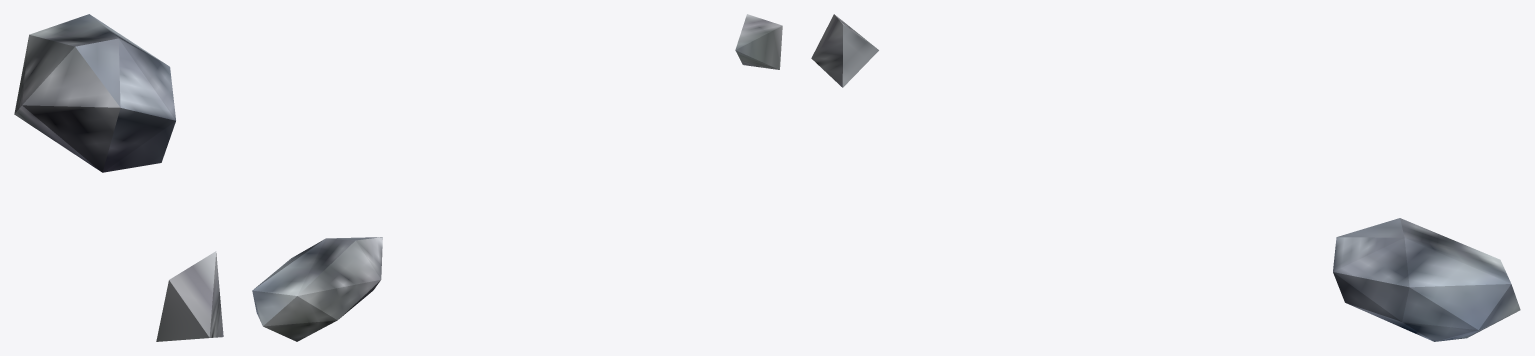
3 renders of one model, left to right at view 1: azimuth 30°, elevation 25°; view 2: azimuth 150°, elevation 25°; view 3: azimuth 270°, elevation 25°, orthographic. The views are drawn at different scales.
Size of the model in its own units: 0.103 by 0.0691 by 0.2129.
1 material, 1 textured.
